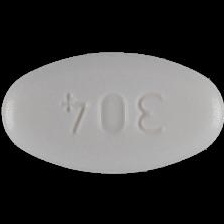68462-304: (0, 0, 224, 224)
